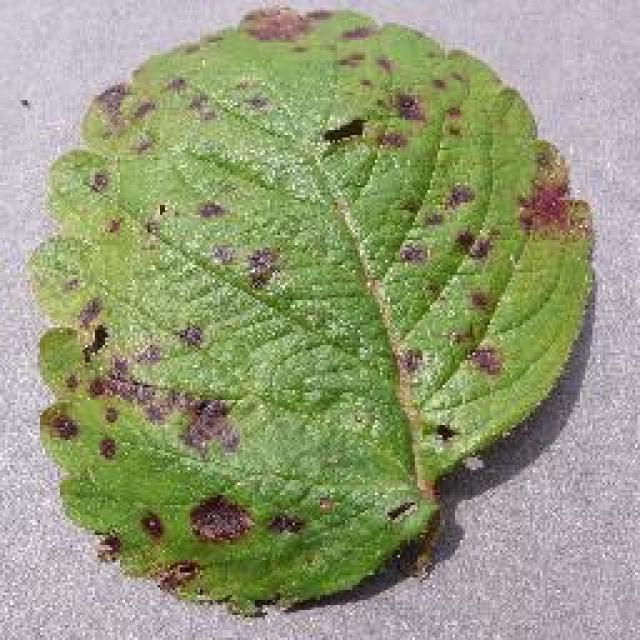Strawberry leaf scorch: (103, 92, 512, 420)
